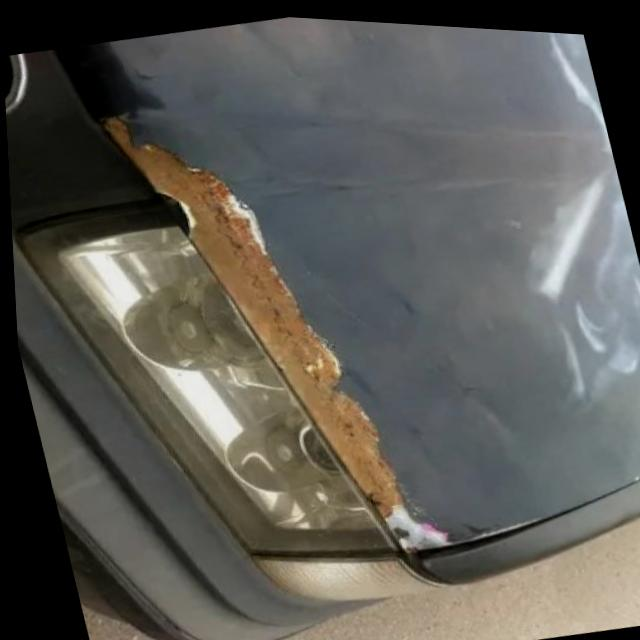Paint-fading: (380, 506, 451, 556)
Rust: (90, 107, 408, 523)
